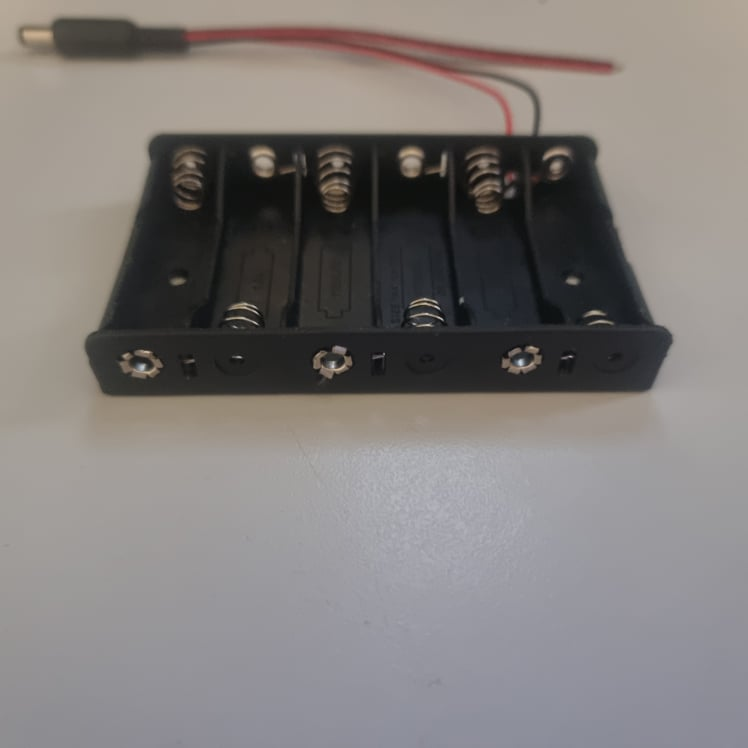BATTERY BOX: (85, 130, 675, 396)
